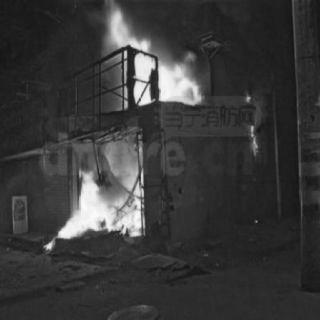Fire: (75, 0, 207, 106), (38, 133, 152, 255), (242, 92, 264, 154)
